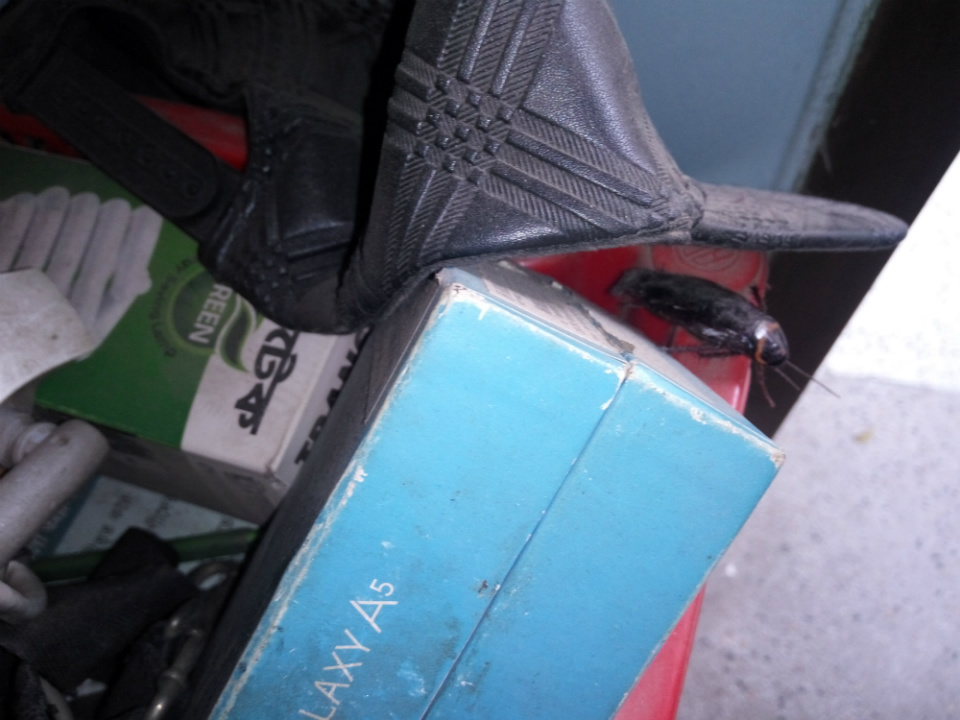cockroach: (592, 258, 848, 413)
